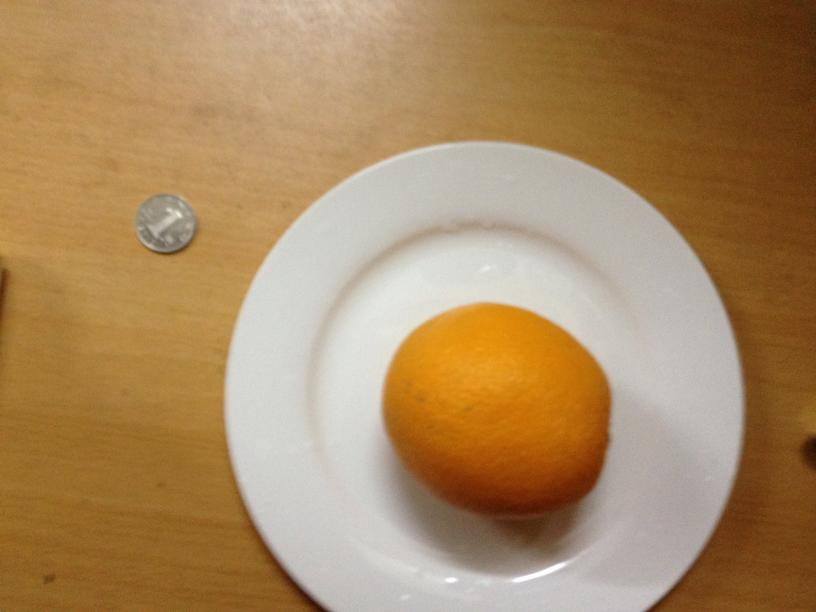coin: (132, 192, 196, 253)
orange: (386, 304, 613, 517)
